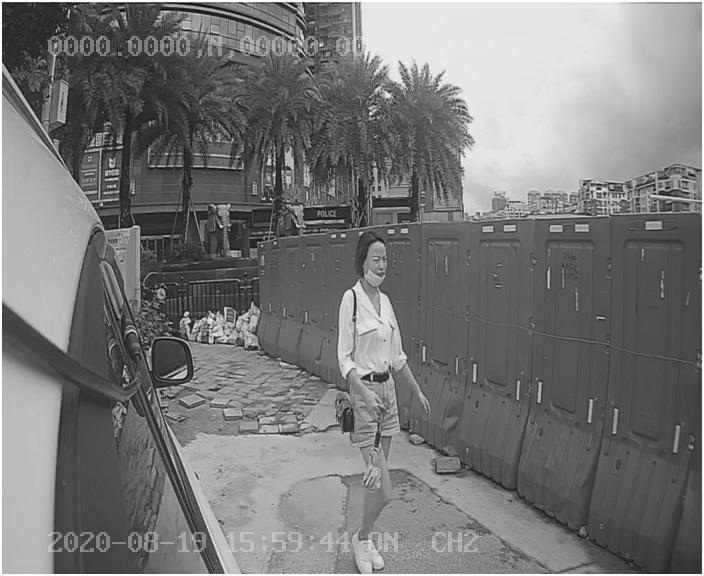person: (313, 225, 445, 539)
